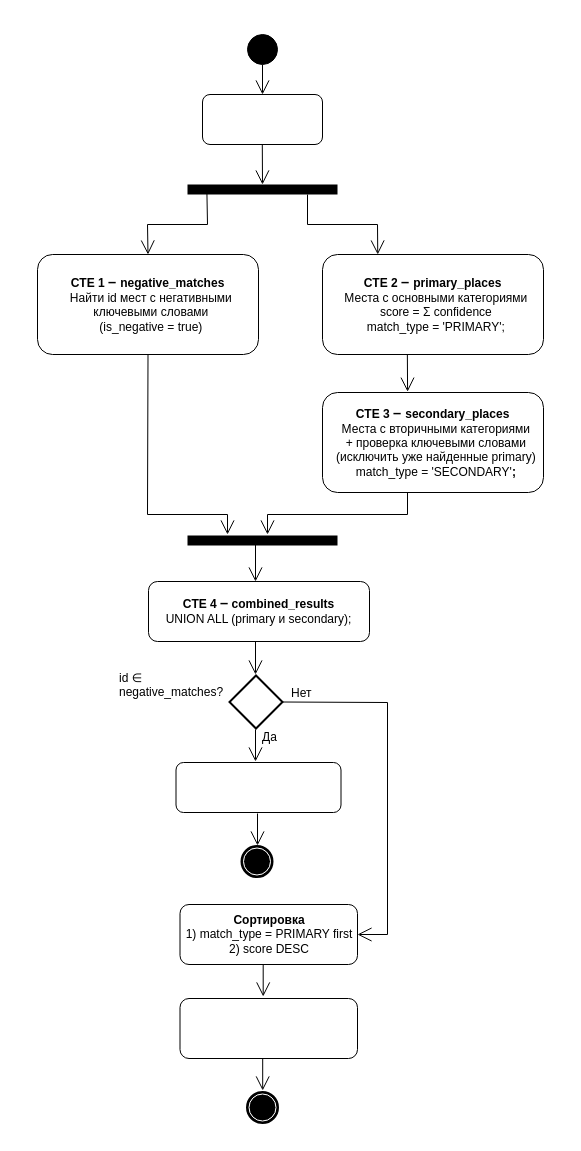
The diagram is 581 pixels wide and 1151 high, and some of its shapes have lost their labels. Here are the shapes that lost their labels. From the top down, the box of each, then its label:
(202, 94, 322, 144): Получить mood_id
(175, 762, 341, 812): Исключить из результата
(179, 998, 358, 1058): Список мест: id, title, slug, categories, score, match_type
